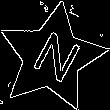N_SW: (22, 26, 82, 89)
